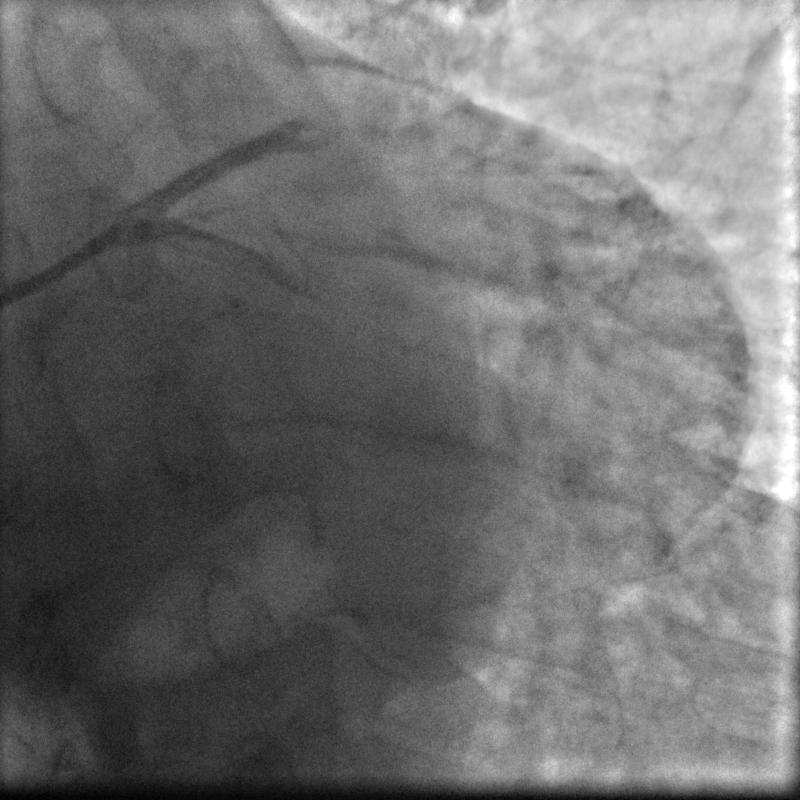Stenosis: (310, 280, 339, 316)
